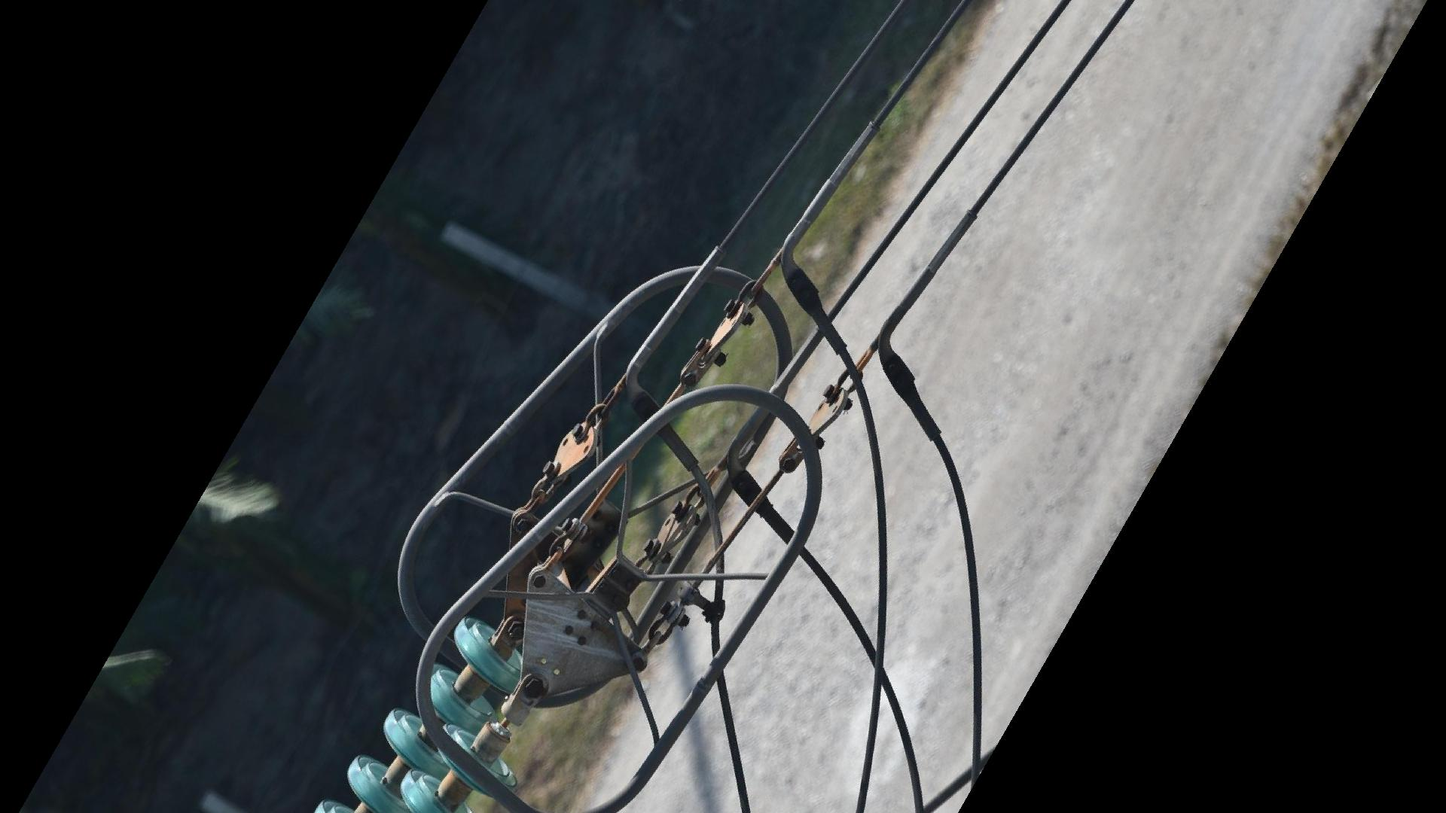insulator: (301, 611, 529, 813)
